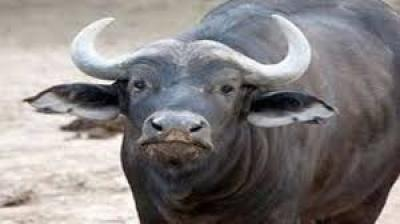buffalo: (29, 0, 399, 223)
